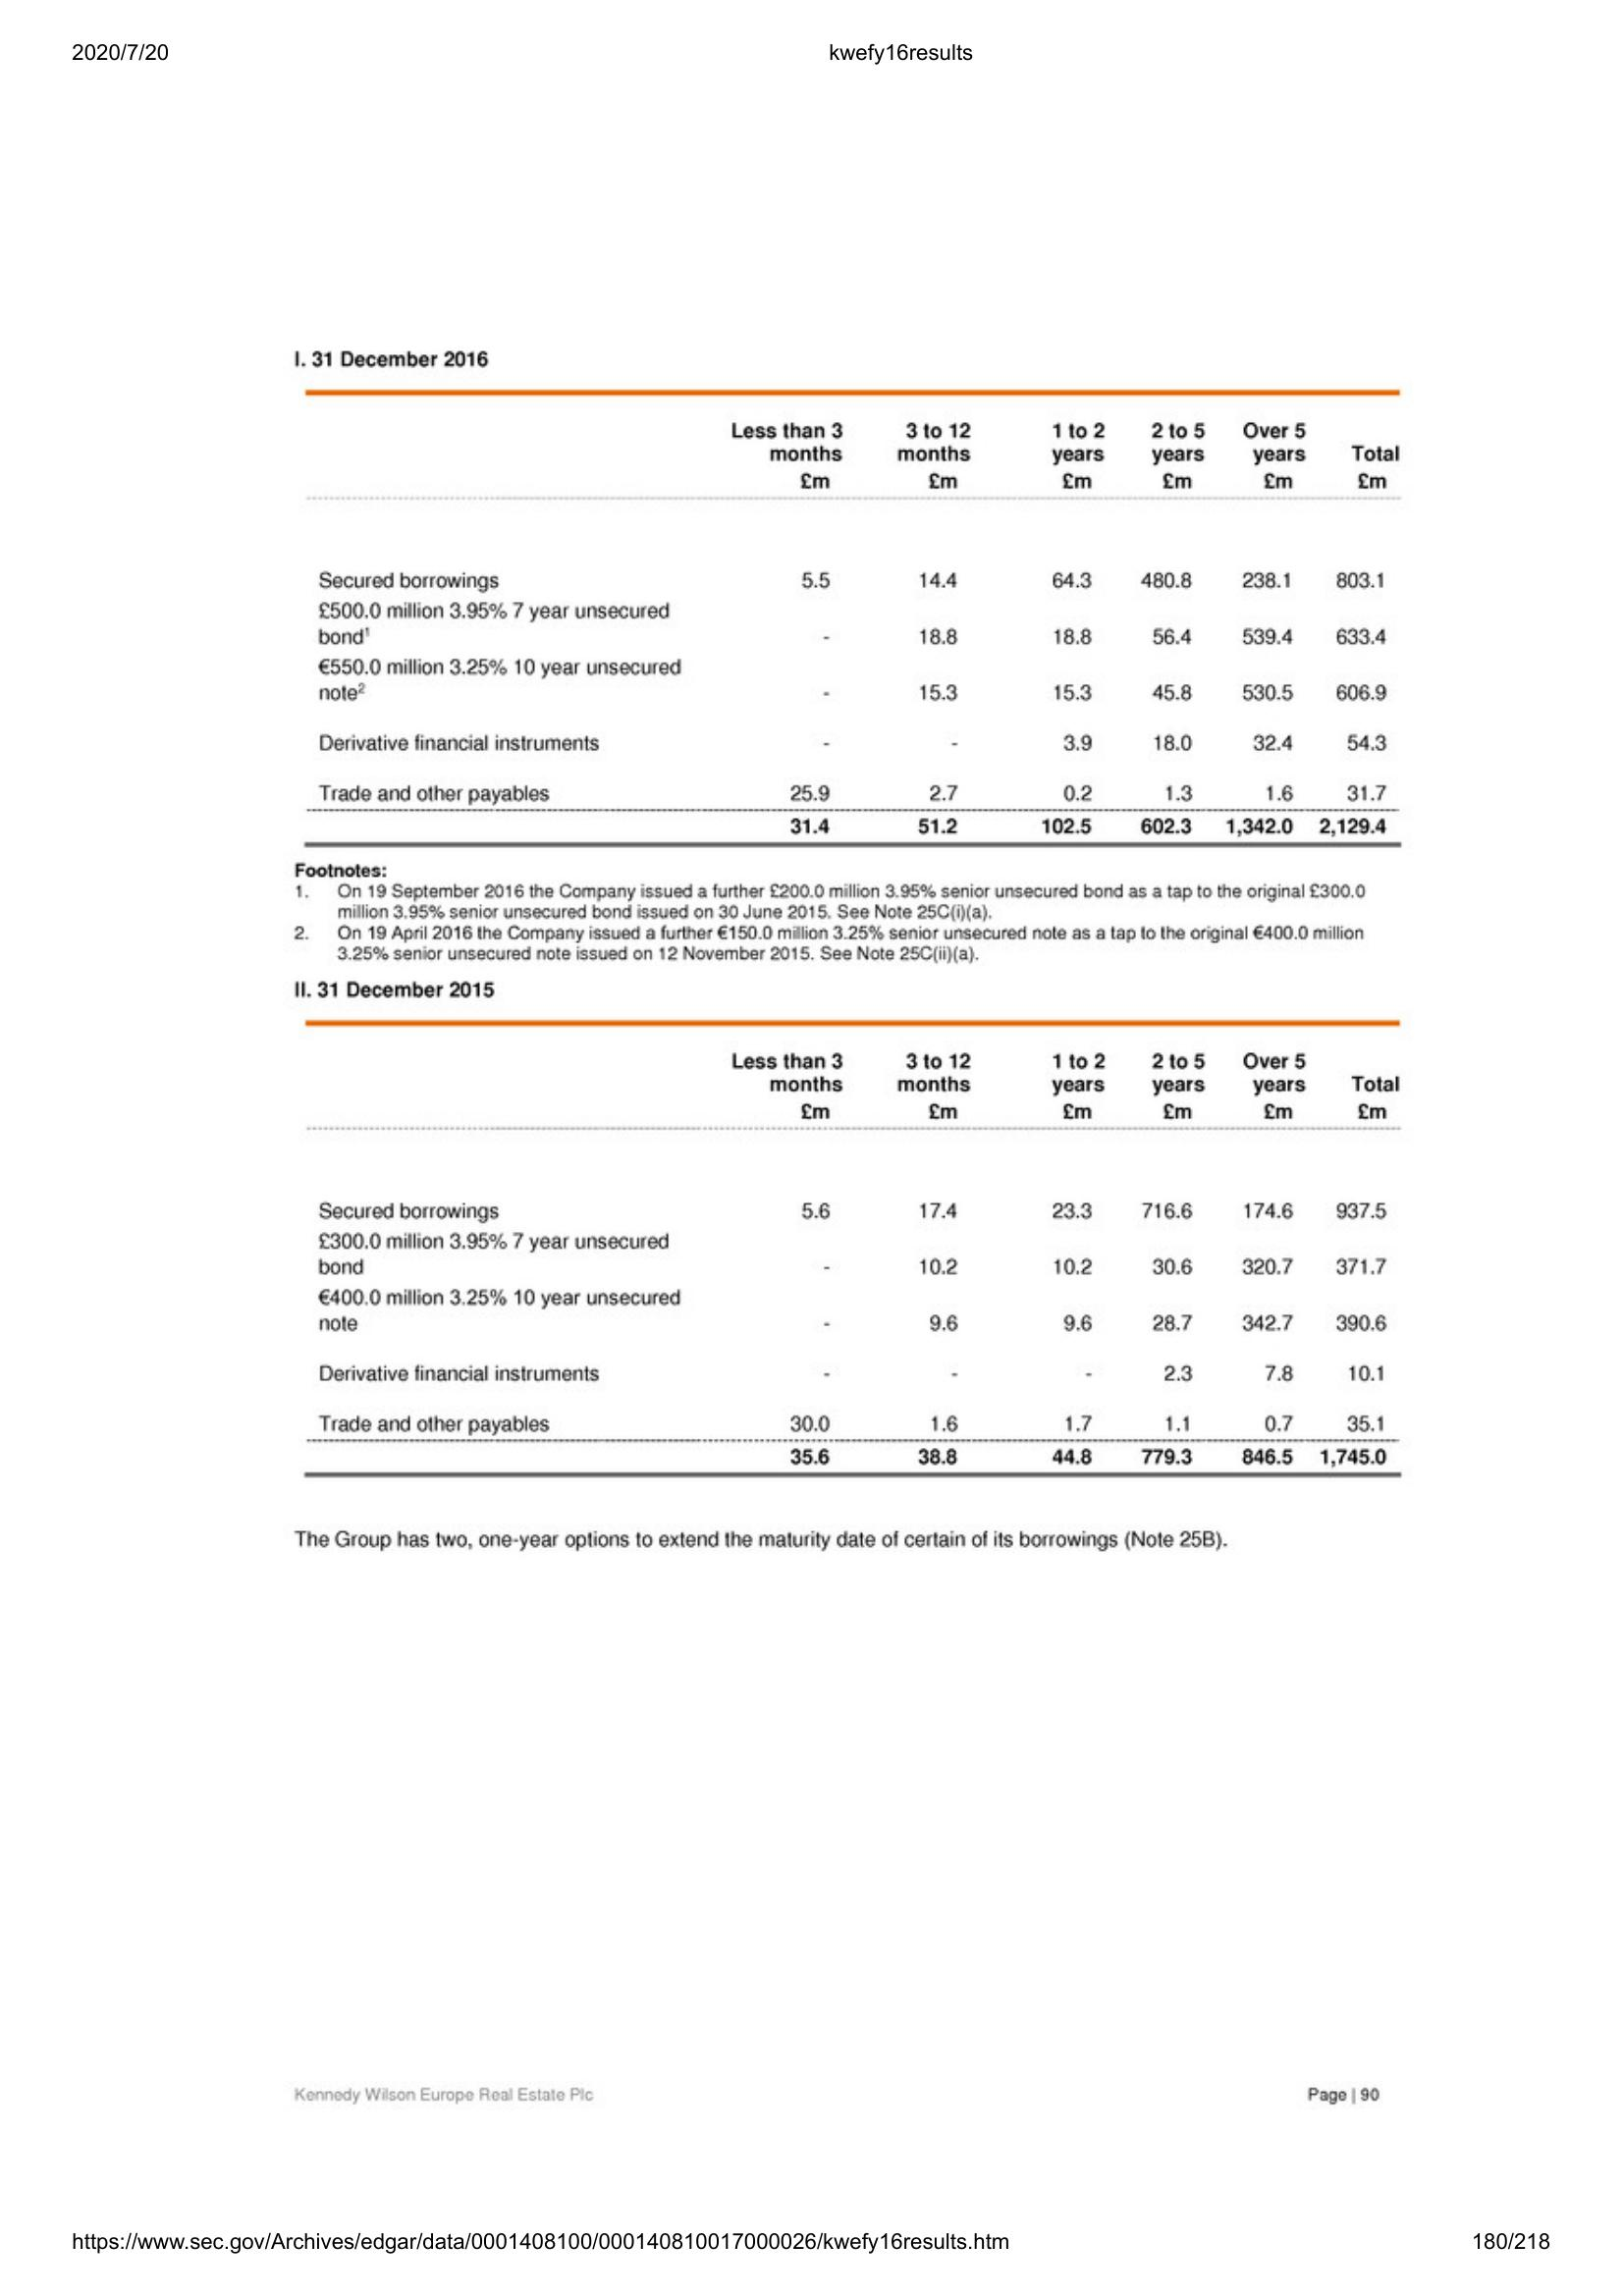table: (302, 381, 1412, 853), (304, 1013, 1402, 1489)
